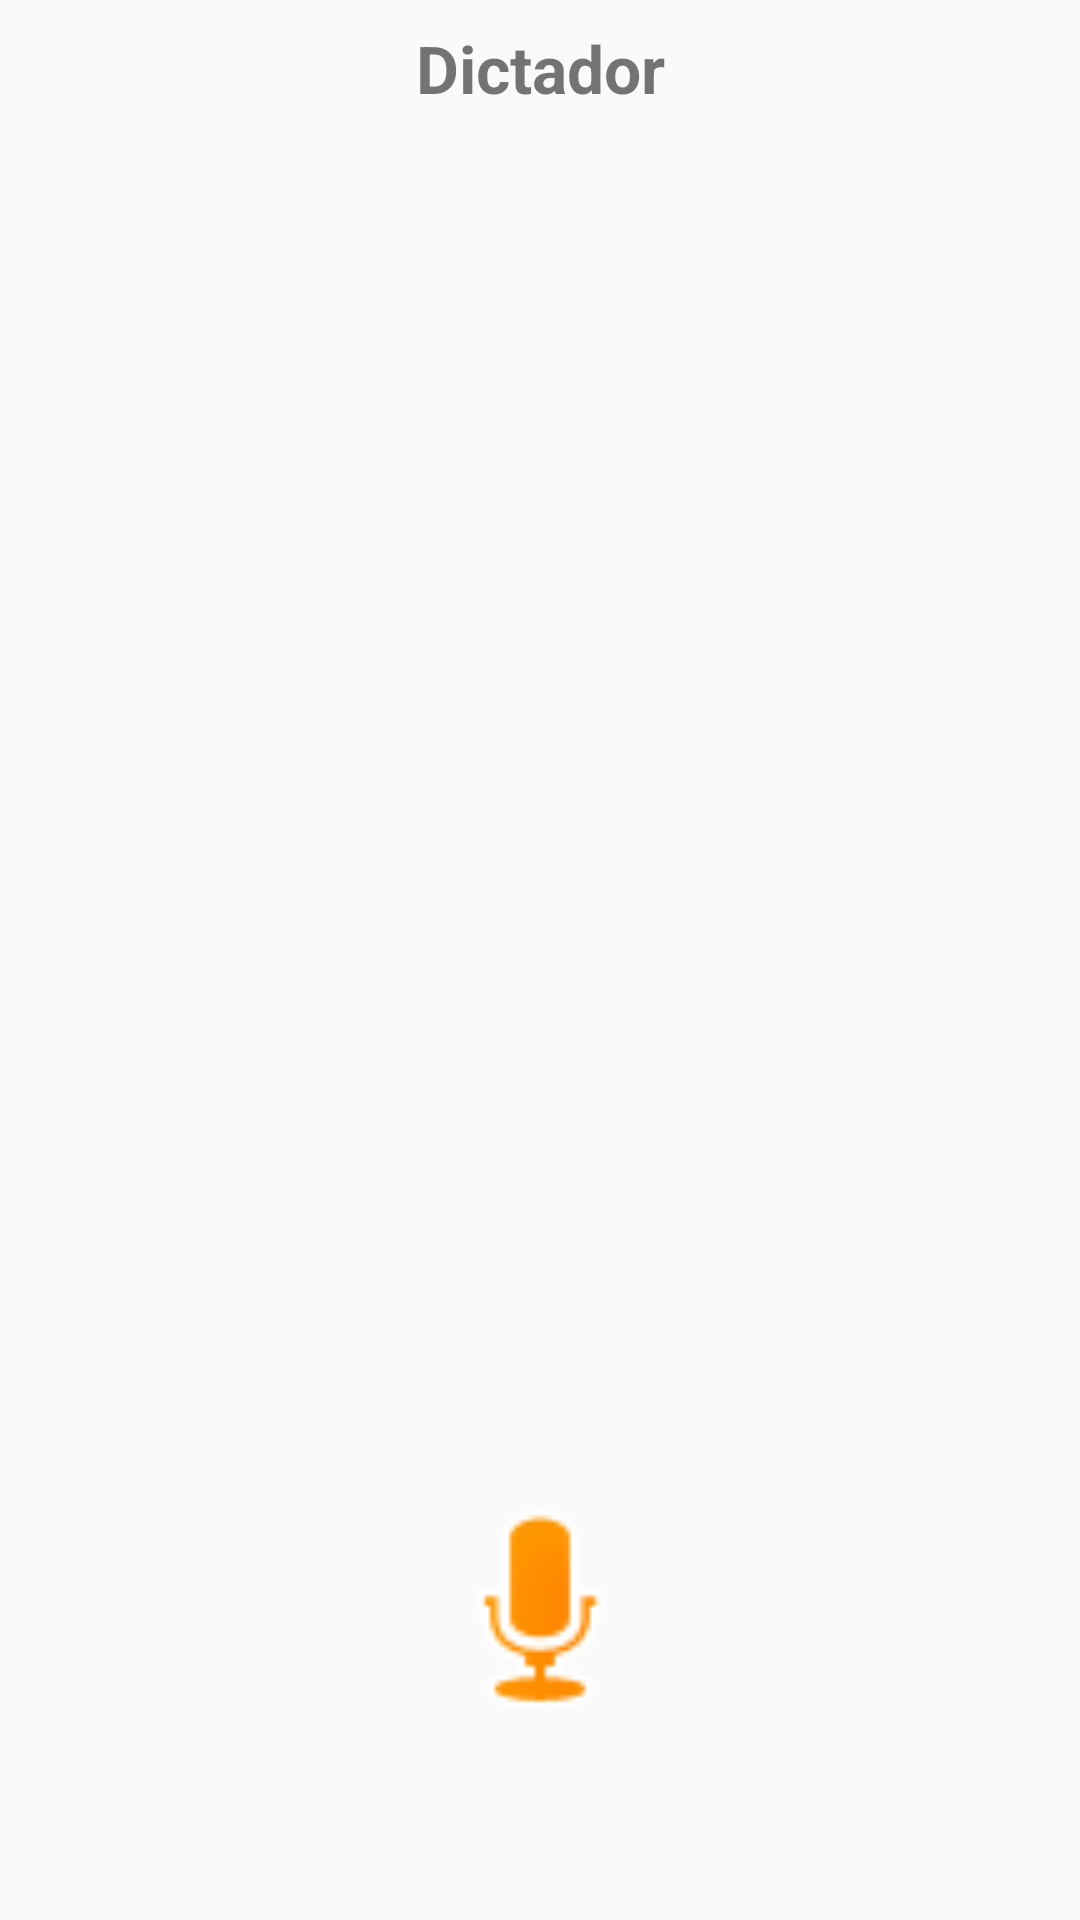

Named icons in this screenshot (1080px×1920px) and their bounding boxes, rect(x1, y1, x2, y2):
microfon: rect(483, 1515, 600, 1703)
